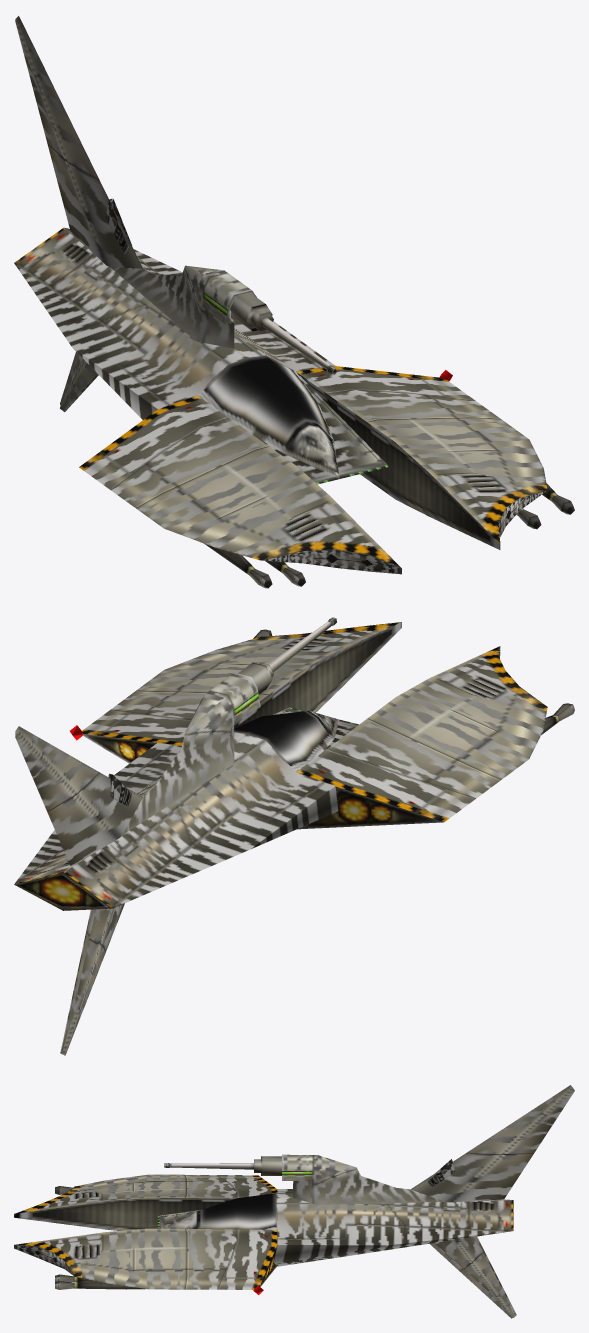
Rendered from fig07ops1.obj.
3 views of the same model, one above another, from view 1: azimuth 30°, elevation 25°; view 2: azimuth 150°, elevation 25°; view 3: azimuth 270°, elevation 25° (orthographic). The views are drawn at different scales.
Parts seen in each view (by area): view 1: frm-rfuselg, frm-fuselg1, frm-lfuselg, frm-fuselgf, frm-finzzz, frm-tfuselg1, frm-twepbas, frm-landgrar2, frm-tgun, frm-rgun2; view 2: frm-rfuselg, frm-fuselg1, frm-lfuselg, frm-finzzz, frm-tfuselg1, frm-fuselgf, frm-landgrar2, frm-landgrLal2, frm-tgun, frm-twepbas; view 3: frm-lfuselg, frm-fuselg1, frm-rfuselg, frm-finzzz, frm-tfuselg1, frm-fuselgf, frm-landgrLal2, frm-landgrar2, frm-lgun1, frm-tgun, frm-twepbas, frm-LLam.
Boxes of the visible parts, x1,y1,x2,y2 form: frm-rfuselg: (79, 395, 401, 574); frm-fuselg1: (14, 227, 388, 484); frm-lfuselg: (296, 366, 547, 549); frm-fuselgf: (198, 355, 339, 478); frm-finzzz: (15, 16, 142, 268); frm-tfuselg1: (64, 228, 251, 348); frm-twepbas: (230, 292, 273, 331); frm-landgrar2: (60, 355, 98, 411); frm-tgun: (261, 318, 337, 374); frm-rgun2: (204, 543, 272, 588); frm-rfuselg: (296, 646, 547, 829); frm-fuselg1: (14, 707, 358, 910); frm-lfuselg: (82, 622, 401, 763); frm-finzzz: (15, 726, 142, 865); frm-tfuselg1: (64, 672, 260, 871); frm-fuselgf: (234, 710, 339, 771); frm-landgrar2: (60, 904, 122, 1055); frm-landgrLal2: (60, 903, 124, 1055); frm-tgun: (268, 617, 336, 672); frm-twepbas: (238, 662, 273, 694); frm-lfuselg: (14, 1228, 277, 1289); frm-fuselg1: (157, 1189, 513, 1266); frm-rfuselg: (14, 1174, 277, 1230); frm-finzzz: (411, 1085, 574, 1202); frm-tfuselg1: (282, 1154, 511, 1204); frm-fuselgf: (164, 1193, 277, 1229); frm-landgrLal2: (435, 1237, 515, 1317); frm-landgrar2: (429, 1236, 516, 1318); frm-lgun1: (55, 1280, 145, 1289); frm-tgun: (164, 1163, 253, 1169); frm-twepbas: (254, 1156, 281, 1175); frm-LLam: (427, 1159, 455, 1187).
Bounding box in the file's own units: 3.21 × 2.97 × 6.43.
